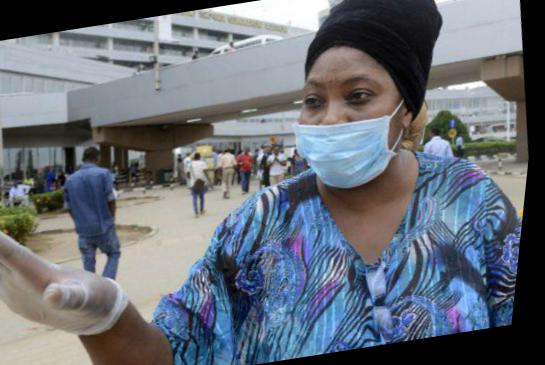WRONG: (288, 67, 413, 186)
